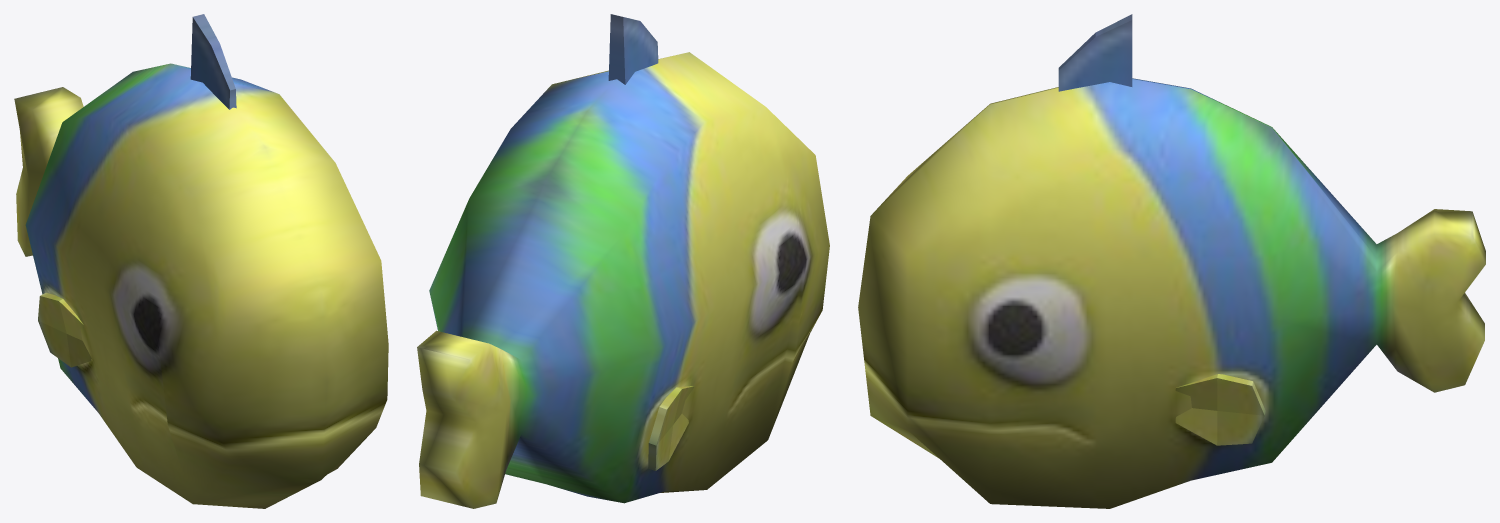
File: sar_balk.fbx
The picture shows the model from 3 angles, left to right: view 1: azimuth 30°, elevation 25°; view 2: azimuth 150°, elevation 25°; view 3: azimuth 270°, elevation 25°; orthographic projection. The views are drawn at different scales.
Visible parts, largest first — view 1: sarı balık; view 2: sarı balık; view 3: sarı balık.
Part boxes in pixels (x1=…): sarı balık: x1=14, y1=14, x2=388, y2=508; sarı balık: x1=417, y1=14, x2=829, y2=508; sarı balık: x1=858, y1=14, x2=1485, y2=508.
Size of the model in its own units: 0.1479 by 0.2961 by 0.3522.
